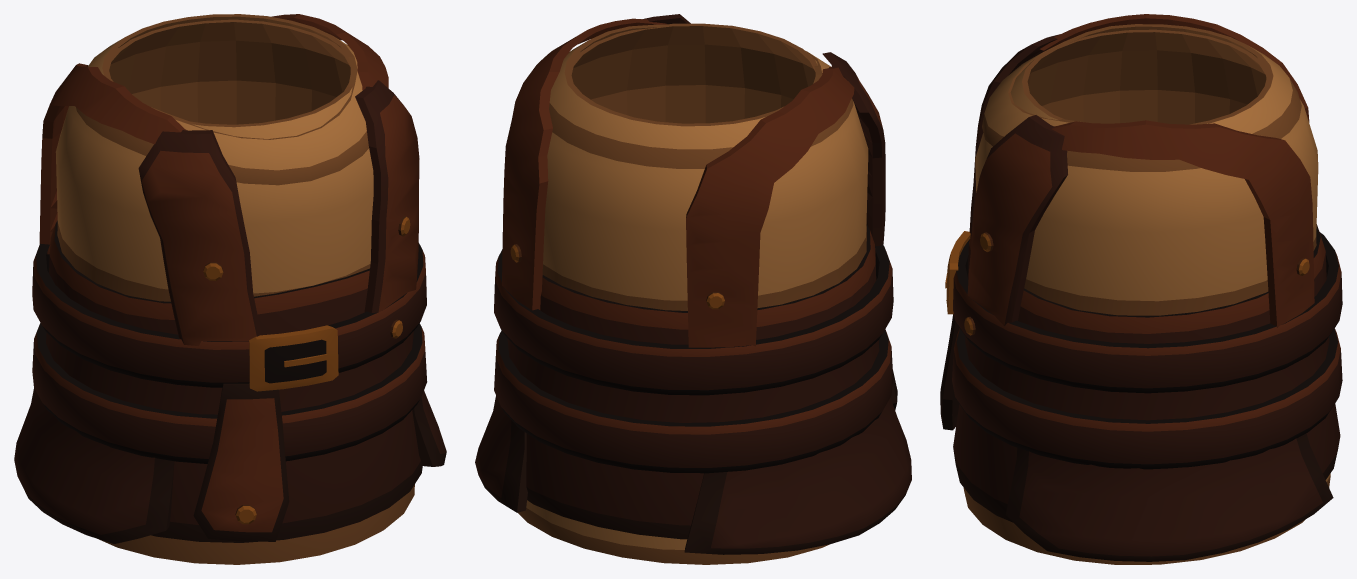
The model's file is BrewersLeatherHarness.fbx.
3 views of the same model, side by side, from view 1: azimuth 30°, elevation 25°; view 2: azimuth 150°, elevation 25°; view 3: azimuth 270°, elevation 25° (orthographic). The views are drawn at different scales.
Visible parts, largest first — view 1: BrewerHarness; view 2: BrewerHarness; view 3: BrewerHarness.
Part boxes in pixels (left/top/right/bottom): BrewerHarness: left=14, top=14, right=446, bottom=564; BrewerHarness: left=475, top=14, right=911, bottom=564; BrewerHarness: left=940, top=14, right=1342, bottom=564.
Size of the model in its own units: 0.3532 by 0.3819 by 0.3302.
Materials: 2 (2 with a texture image).
